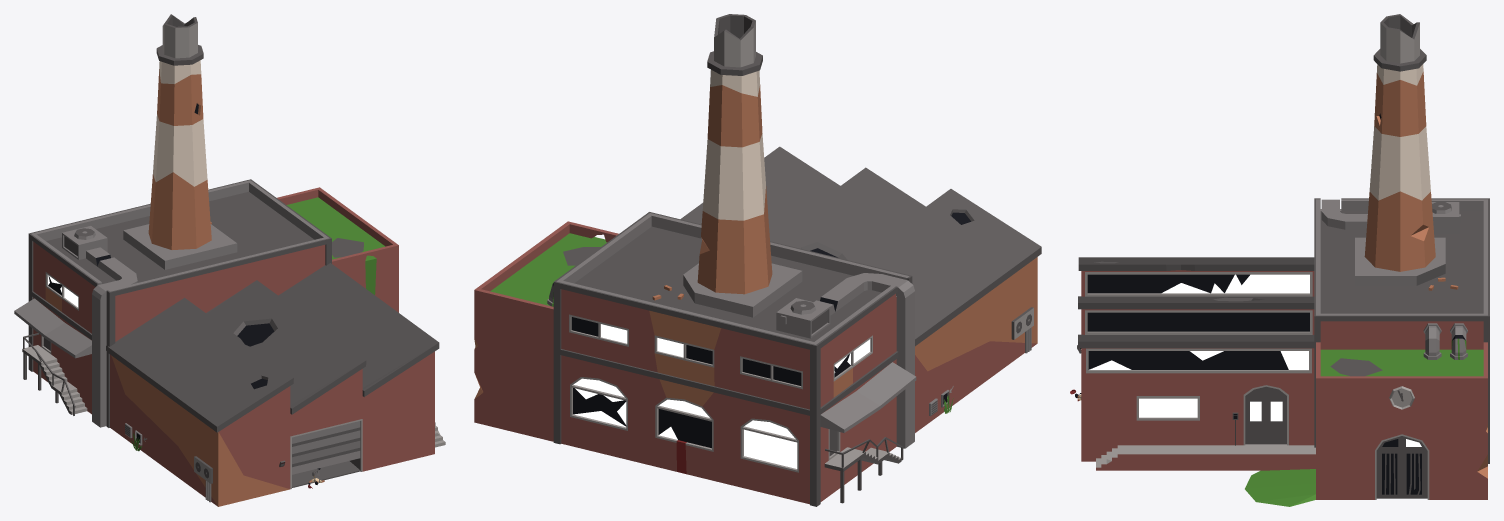
Rendered from apocalypse-industry-factory-old-apocalypse.glb.
The picture shows the model from 3 angles, left to right: view 1: azimuth 30°, elevation 25°; view 2: azimuth 150°, elevation 25°; view 3: azimuth 270°, elevation 25°; orthographic projection. The views are drawn at different scales.
Visible parts, largest first — view 1: industry-factory-old-base-apocalypse; view 2: industry-factory-old-base-apocalypse; view 3: industry-factory-old-base-apocalypse.
Part boxes in pixels (x1=…): industry-factory-old-base-apocalypse: x1=14, y1=14, x2=445, y2=506; industry-factory-old-base-apocalypse: x1=474, y1=14, x2=1041, y2=506; industry-factory-old-base-apocalypse: x1=1077, y1=14, x2=1489, y2=506.
Size of the model in its own units: 22.34 by 23.31 by 23.2.
